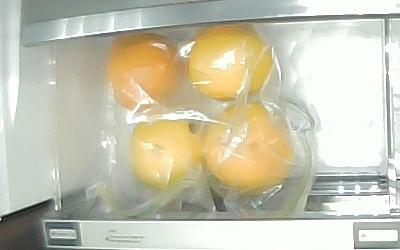grapefruit_vinyl: (203, 102, 296, 194), (188, 24, 275, 101), (106, 34, 183, 112), (131, 119, 203, 190)
